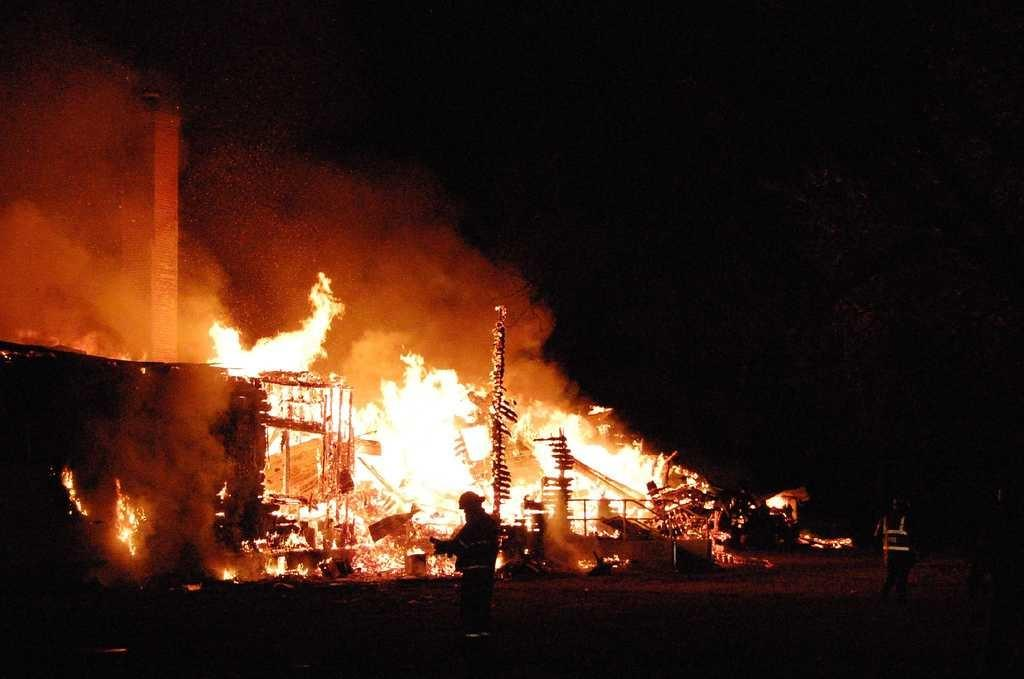fire: (385, 390, 468, 520), (218, 327, 325, 373), (568, 448, 655, 498)
smoke: (17, 112, 150, 325), (350, 240, 487, 357)
